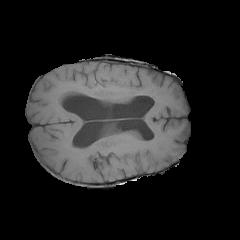glioma: (59, 82, 156, 102)
